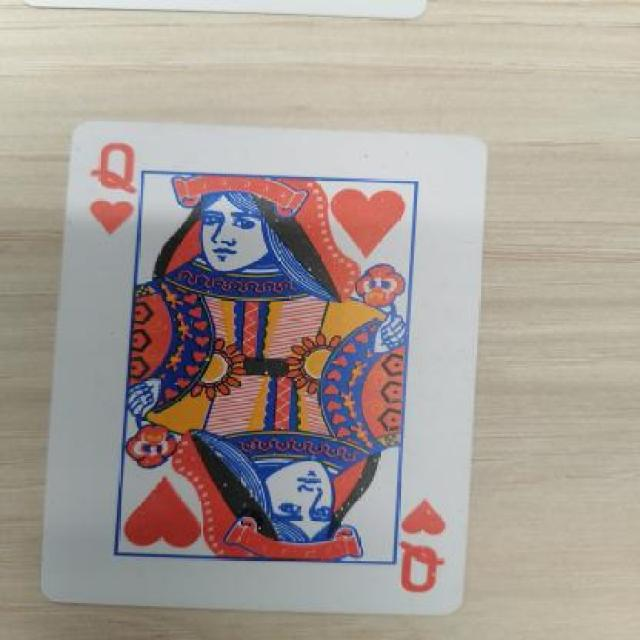QH: (71, 125, 163, 257), (388, 488, 474, 604)
